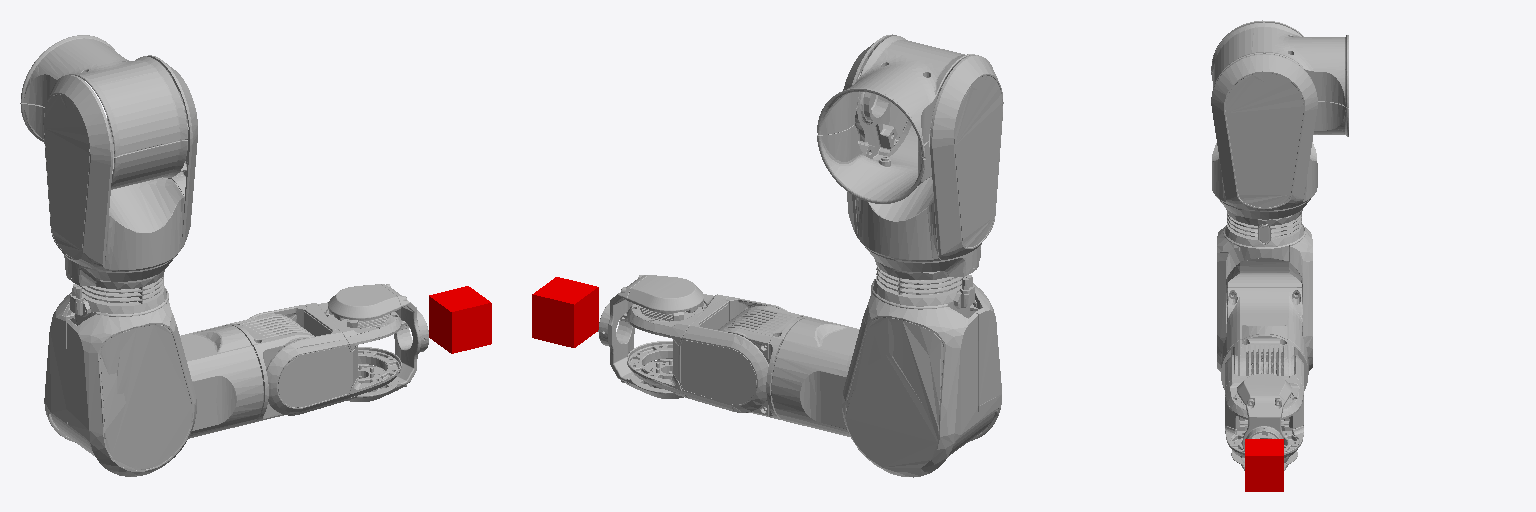
The robot description file, URDF, robot "CR1_RIGHT_ARM_TCP_RED":
<?xml version="1.0" encoding="utf-8"?>
<!-- This URDF was automatically created by SolidWorks to URDF Exporter! Originally created by Stephen Brawner (brawner@gmail.com) 
     Commit Version: 1.6.0-4-g7f85cfe  Build Version: 1.6.7995.38578
     For more information, please see http://wiki.ros.org/sw_urdf_exporter -->
     <!-- URDF File Orignal Name: CR1-PRO-B1_20250909 -->
<robot name="CR1_RIGHT_ARM_TCP_RED">
  <mujoco>
    <compiler meshdir="../meshes" discardvisual="false" fusestatic="false"/>
  </mujoco>
  <link name="base_link">
  </link>
  <link name="right_shoulder_y_link">
    <inertial>
      <origin xyz="0.001395 0.012215 0.000005" rpy="0 0 0" />
      <mass value="1.399360" />
      <inertia ixx="0.002970" ixy="-0.000104" ixz="-0.000001" iyy="0.001716" iyz="-0.000001" izz="0.002918" />
    </inertial>
    <visual>
      <origin xyz="0 0 0" rpy="0 0 0" />
      <geometry>
        <mesh filename="../meshes/right_shoulder_y_link.STL" />
      </geometry>
      <material name="">
        <color rgba="0.752941176470588 0.752941176470588 0.752941176470588 1" />
      </material>
    </visual>
    <collision>
      <origin xyz="0 0.075 0" rpy="1.57079632 0 0"/>
      <geometry>
        <cylinder length="0.1" radius="0.06"/>
      </geometry>
    </collision>
  </link>
  <joint name="right_shoulder_y_joint" type="revolute">
    <origin xyz="0 0 0" rpy="0 0 0" />
    <parent link="base_link" />
    <child link="right_shoulder_y_link" />
    <axis xyz="0 1 0" />
    <limit lower="-3.8397" upper="1.5708" effort="107" velocity="19.38"/>
  </joint>
  <link name="right_shoulder_x_link">
    <inertial>
      <origin xyz="-0.000445 0.000002 -0.048685" rpy="0 0 0" />
      <mass value="0.669537" />
      <inertia ixx="0.001486" ixy="0.000000" ixz="-0.000030" iyy="0.002201" iyz="0.000000" izz="0.001488" />
    </inertial>
    <visual>
      <origin xyz="0 0 0" rpy="0 0 0" />
      <geometry>
        <mesh filename="../meshes/right_shoulder_x_link.STL" />
      </geometry>
      <material name="">
        <color rgba="0.752941176470588 0.752941176470588 0.752941176470588 1" />
      </material>
    </visual>
    <collision>
      <origin xyz="0 0 -0.09" rpy="0 0 0"/>
      <geometry>
        <cylinder length="0.1" radius="0.055"/>
      </geometry>
    </collision>
    <collision>
      <origin xyz="0 0 0" rpy="0 1.57079632 0"/>
      <geometry>
        <cylinder length="0.11" radius="0.055"/>
      </geometry>
    </collision>
  </link>
  <joint name="right_shoulder_x_joint" type="revolute">
    <origin xyz="0 0 0" rpy="0 0 0" />
    <parent link="right_shoulder_y_link" />
    <child link="right_shoulder_x_link" />
    <axis xyz="1 0 0" />
    <limit lower="-3.5779" upper="0.43633" effort="107" velocity="19.38"/>
  </joint>
  <link name="right_shoulder_z_link">
    <inertial>
      <origin xyz="-0.005972 -0.000353 0.094931" rpy="0 0 0" />
      <mass value="1.643566" />
      <inertia ixx="0.006370" ixy="-0.000002" ixz="0.000246" iyy="0.006199" iyz="0.000054" izz="0.002578" />
    </inertial>
    <visual>
      <origin xyz="0 0 0" rpy="0 0 0" />
      <geometry>
        <mesh filename="../meshes/right_shoulder_z_link.STL" />
      </geometry>
      <material name="">
        <color rgba="0.752941176470588 0.752941176470588 0.752941176470588 1" />
      </material>
    </visual>
    <collision>
      <origin xyz="0 0 0.05" rpy="0 0 0"/>
      <geometry>
        <cylinder length="0.15" radius="0.055"/>
      </geometry>
    </collision>
  </link>
  <joint name="right_shoulder_z_joint" type="revolute">
    <origin xyz="0 0 -0.265" rpy="0 0 0" />
    <parent link="right_shoulder_x_link" />
    <child link="right_shoulder_z_link" />
    <axis xyz="0 0 1" />
    <limit lower="-2.9671" upper="2.9671" effort="107" velocity="19.38"/>
    <!-- <limit lower="-1.57" upper="1.57" effort="107" velocity="19.38"/> -->
  </joint>
  <link name="right_elbow_link">
    <inertial>
      <origin xyz="0.001001 0.000364 -0.025548" rpy="0 0 0" />
      <mass value="1.626265" />
      <inertia ixx="0.003736" ixy="0.000069" ixz="0.000123" iyy="0.003835" iyz="0.000047" izz="0.001996" />
    </inertial>
    <visual>
      <origin xyz="0 0 0" rpy="0 0 0" />
      <geometry>
        <mesh filename="../meshes/right_elbow_link.STL" />
      </geometry>
      <material name="">
        <color rgba="0.752941176470588 0.752941176470588 0.752941176470588 1" />
      </material>
    </visual>
    <collision>
      <origin xyz="0 0 0" rpy="1.57079632 0 0"/>
      <geometry>
        <cylinder length="0.11" radius="0.055"/>
      </geometry>
    </collision>
    <collision>
      <origin xyz="0 0 -0.05" rpy="0 0 0"/>
      <geometry>
        <cylinder length="0.15" radius="0.045"/>
      </geometry>
    </collision>
  </link>
  <joint name="right_elbow_joint" type="revolute">
    <origin xyz="0 0 0" rpy="0 -1.5707963267949 0" />
    <parent link="right_shoulder_z_link" />
    <child link="right_elbow_link" />
    <axis xyz="0 1 0" />
    <limit lower="-0.767945" upper="1.74533" effort="107" velocity="19.38"/>
  </joint>
  <link name="right_wrist_z_link">
    <inertial>
      <origin xyz="0.000026 -0.000171 0.010042" rpy="0 0 0" />
      <mass value="0.619327" />
      <inertia ixx="0.000618" ixy="0.000000" ixz="0.000001" iyy="0.000650" iyz="0.000025" izz="0.000491" />
    </inertial>
    <visual>
      <origin xyz="0 0 0" rpy="0 0 0" />
      <geometry>
        <mesh filename="../meshes/right_wrist_z_link.STL" />
      </geometry>
      <material name="">
        <color rgba="0.752941176470588 0.752941176470588 0.752941176470588 1" />
      </material>
    </visual>
    <collision>
      <origin xyz="0 0 -0.015" rpy="1.57079632 0 0"/>
      <geometry>
        <cylinder length="0.09" radius="0.045"/>
      </geometry>
    </collision>
  </link>
  <joint name="right_wrist_z_joint" type="revolute">
    <origin xyz="0 0 -0.16" rpy="0 0 0" />
    <parent link="right_elbow_link" />
    <child link="right_wrist_z_link" />
    <axis xyz="0 0 1" />
    <limit lower="-2.9671" upper="2.9671" effort="31" velocity="23.76"/>
  </joint>
  <link name="right_wrist_y_link">
    <inertial>
      <origin xyz="-0.001057 0.000585 -0.059840" rpy="0 0 0" />
      <mass value="0.724096" />
      <inertia ixx="0.001186" ixy="0.000000" ixz="0.000037" iyy="0.001035" iyz="0.000011" izz="0.000703" />
    </inertial>
    <visual>
      <origin xyz="0 0 0" rpy="0 0 0" />
      <geometry>
        <mesh filename="../meshes/right_wrist_y_link.STL" />
      </geometry>
      <material name="">
        <color rgba="0.752941176470588 0.752941176470588 0.752941176470588 1" />
      </material>
    </visual>
    <collision>
      <origin xyz="0 0 -0.09" rpy=" 0 1.57079632 0"/>
      <geometry>
        <cylinder length="0.09" radius="0.04"/>
      </geometry>
    </collision>
  </link>
  <joint name="right_wrist_y_joint" type="revolute">
    <origin xyz="0 0 0" rpy="0 0 0" />
    <parent link="right_wrist_z_link" />
    <child link="right_wrist_y_link" />
    <axis xyz="0 1 0" />
    <limit lower="-1.5708" upper="1.5708" effort="31" velocity="23.76"/>
  </joint>
  <link name="right_wrist_x_link">
    <!-- <inertial>
      <origin xyz="-0.001710 0.000031 -0.050745" rpy="0 0 0" />
      <mass value="0.269670" />
      <inertia ixx="0.000556" ixy="0.000000" ixz="-0.000030" iyy="0.000687" iyz="0.000000" izz="0.000300" />
    </inertial>
    <visual>
      <origin xyz="0 0 0" rpy="0 0 0" />
      <geometry>
        <mesh filename="../meshes/right_wrist_x_link.STL" />
      </geometry>
      <material name="">
        <color rgba="0.752941176470588 0.752941176470588 0.752941176470588 1" />
      </material>
    </visual>
    <collision>
      <origin xyz="0 0 -0.096" rpy=" 0 0 0"/>
      <geometry>
        <sphere radius="0.045"/>
      </geometry>
    </collision> -->
    <inertial>
      <origin rpy="0 0 0" xyz="-0.0032313 5.1762E-05 0.017358"/>
      <mass value="0.16387"/>
      <inertia ixx="4.859E-05" ixy="3.8075E-08" ixz="1.0798E-07" iyy="6.5877E-05" iyz="-6.8003E-08" izz="6.4876E-05"/>
    </inertial>
    <visual>
      <origin rpy="0 0 0" xyz="0 0 0"/>
      <geometry>
        <mesh filename="../meshes/arm_link7.STL"/>
      </geometry>
      <material name="">
        <color rgba="0.75294 0.75294 0.75294 1"/>
      </material>
    </visual>
    <collision>
      <origin rpy="0 0 0" xyz="0 0 0"/>
      <geometry>
        <mesh filename="../meshes/arm_link7.STL"/>
      </geometry>
    </collision>
  </link>
  <joint name="right_wrist_x_joint" type="revolute">
    <origin xyz="0 0 -0.08" rpy="3.14159265358979323846 0 0" />
    <parent link="right_wrist_y_link" />
    <child link="right_wrist_x_link" />
    <axis xyz="1 0 0" />
    <limit lower="-1.5708" upper="1.5708" effort="31" velocity="23.76"/>
  </joint>
  <link name="tcp">
    <visual>
      <origin xyz="0 0 0" rpy="0 0 0"/>
      <geometry>
        <box size="0.04 0.04 0.04"/>
      </geometry>
      <material name="tcp_red">
        <color rgba="1 0 0 1"/>
      </material>
    </visual>
  </link>
  <joint name="tcp_joint" type="fixed">
    <origin xyz="0 0 0.10" rpy="0 -1.57079632679489661923 3.14159265358979323846"/>
    <parent link="right_wrist_x_link"/>
    <child link="tcp"/>
  </joint>
</robot>

--- Facts derived from the render (not from the file) ---
3 views of the same robot in one strip: view 1: azimuth 30°, elevation 25°; view 2: azimuth 150°, elevation 25°; view 3: azimuth 270°, elevation 25° (orthographic).
Robot: CR1_RIGHT_ARM_TCP_RED — 9 links, 8 joints (7 revolute, 1 fixed); root link base_link; default pose: all joints at 0.
Visible links, largest first — view 1: right_shoulder_z_link, right_shoulder_x_link, right_shoulder_y_link, right_wrist_y_link, right_elbow_link, right_wrist_x_link, tcp, right_wrist_z_link; view 2: right_shoulder_z_link, right_shoulder_x_link, right_shoulder_y_link, right_wrist_y_link, right_elbow_link, right_wrist_x_link, tcp, right_wrist_z_link; view 3: right_shoulder_x_link, right_shoulder_z_link, right_shoulder_y_link, right_elbow_link, right_wrist_y_link, right_wrist_x_link, right_wrist_z_link, tcp.
Boxes of the visible links, x1,y1,x2,y2 form: right_shoulder_z_link: (44, 255, 196, 476); right_shoulder_x_link: (43, 55, 197, 271); right_shoulder_y_link: (20, 35, 187, 189); right_wrist_y_link: (249, 302, 401, 415); right_elbow_link: (50, 325, 263, 455); right_wrist_x_link: (328, 284, 428, 401); tcp: (429, 286, 491, 353); right_wrist_z_link: (225, 313, 314, 422); right_shoulder_z_link: (842, 244, 1001, 477); right_shoulder_x_link: (843, 34, 1003, 261); right_shoulder_y_link: (817, 36, 974, 203); right_wrist_y_link: (627, 294, 787, 412); right_elbow_link: (772, 318, 995, 456); right_wrist_x_link: (598, 275, 703, 398); tcp: (532, 277, 598, 347); right_wrist_z_link: (718, 305, 811, 419); right_shoulder_x_link: (1211, 20, 1317, 210); right_shoulder_z_link: (1217, 199, 1312, 371); right_shoulder_y_link: (1211, 22, 1348, 136); right_elbow_link: (1221, 273, 1308, 370); right_wrist_y_link: (1225, 355, 1303, 457); right_wrist_x_link: (1231, 374, 1297, 470); right_wrist_z_link: (1221, 334, 1308, 419); tcp: (1245, 439, 1283, 491).
Bounding box of the posed robot: 0.4141 × 0.139 × 0.3729 m (x, y, z).
7 mesh visuals loaded from 7 distinct referenced files (7 binary STL).
